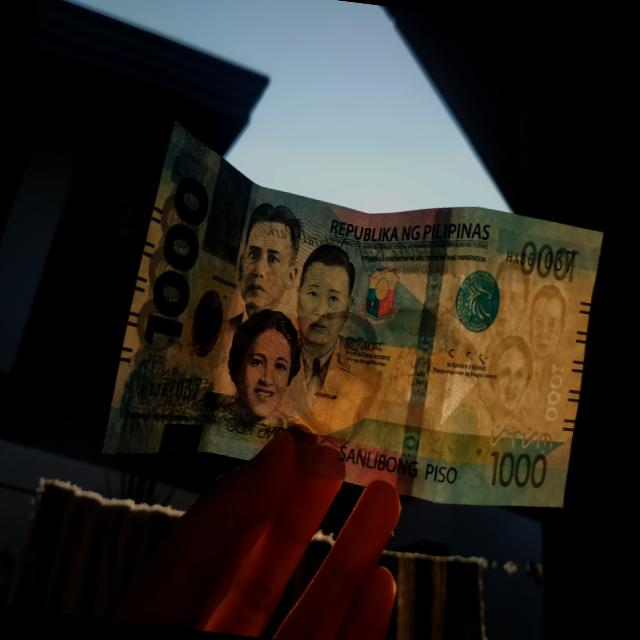concealed_value: (202, 157, 254, 267)
optically_variable_device: (181, 267, 238, 373)
security_thread: (394, 204, 457, 496)
see_through_mark: (488, 419, 558, 456)
serial_number: (501, 232, 581, 282)
value: (143, 168, 212, 350)
value_watermark: (545, 360, 570, 424)
watermark: (473, 256, 573, 430)
